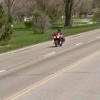Motorcycle: (48, 25, 71, 51)
